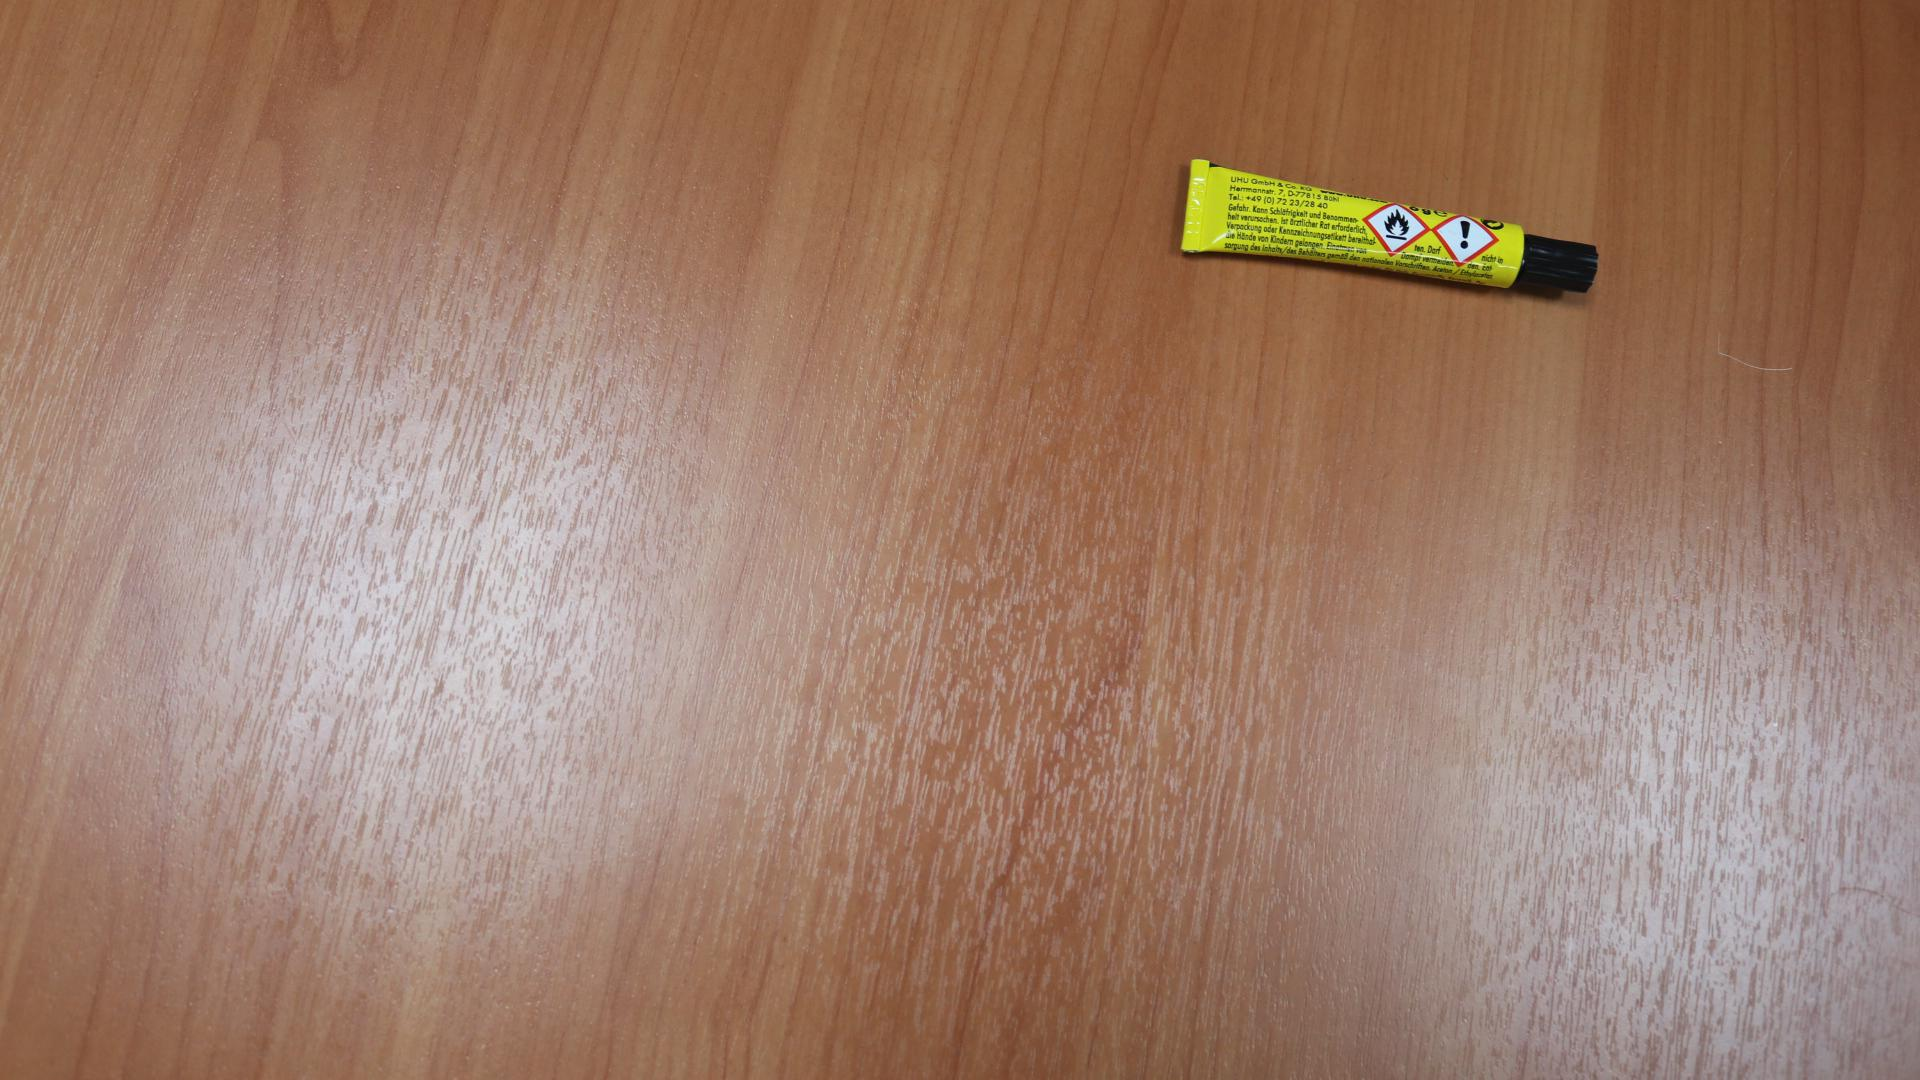Head: (1554, 256, 1567, 270)
Tail: (1190, 199, 1201, 211)
Tube: (1180, 159, 1599, 293)
